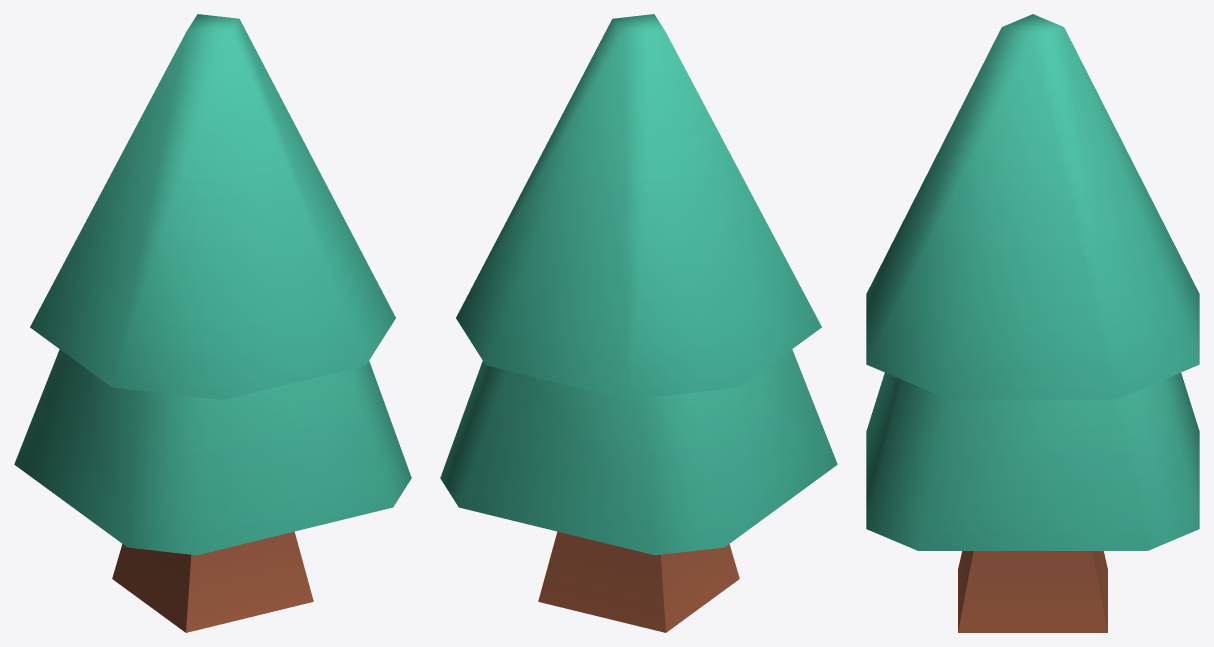
Rendered from kenney-hexagon-unit-tree.glb.
3 renders of one model, left to right at view 1: azimuth 30°, elevation 25°; view 2: azimuth 150°, elevation 25°; view 3: azimuth 270°, elevation 25°, orthographic.
Parts seen in each view (by area): view 1: unit_tree; view 2: unit_tree; view 3: unit_tree.
Part boxes in pixels (box(x1,y1,x2,y2)): unit_tree: box(14, 14, 411, 632); unit_tree: box(440, 14, 837, 632); unit_tree: box(866, 14, 1199, 632).
Size of the model in its own units: 0.2 by 0.38 by 0.2.
1 material, 1 textured.
